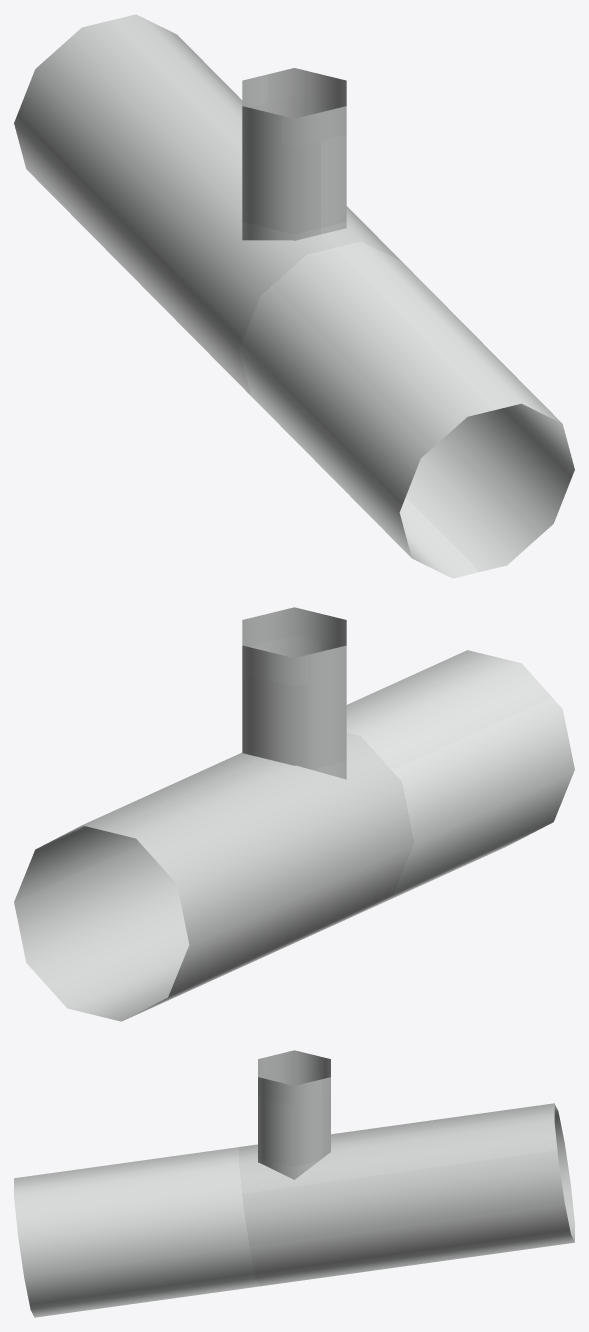
Rendered from trusssignalarm_level8_c4.obj.
3 renders of one model, top to bottom at view 1: azimuth 30°, elevation 25°; view 2: azimuth 150°, elevation 25°; view 3: azimuth 270°, elevation 25°, orthographic. The views are drawn at different scales.
Parts seen in each view (by area): view 1: trusssignalarm_level8_c4; view 2: trusssignalarm_level8_c4; view 3: trusssignalarm_level8_c4.
Part boxes in pixels (x1,y1,x2,y2): trusssignalarm_level8_c4: (14,14,574,578); trusssignalarm_level8_c4: (14,607,574,1021); trusssignalarm_level8_c4: (14,1050,574,1317).
Size of the model in its own units: 0.2625 by 0.4906 by 1.04.
